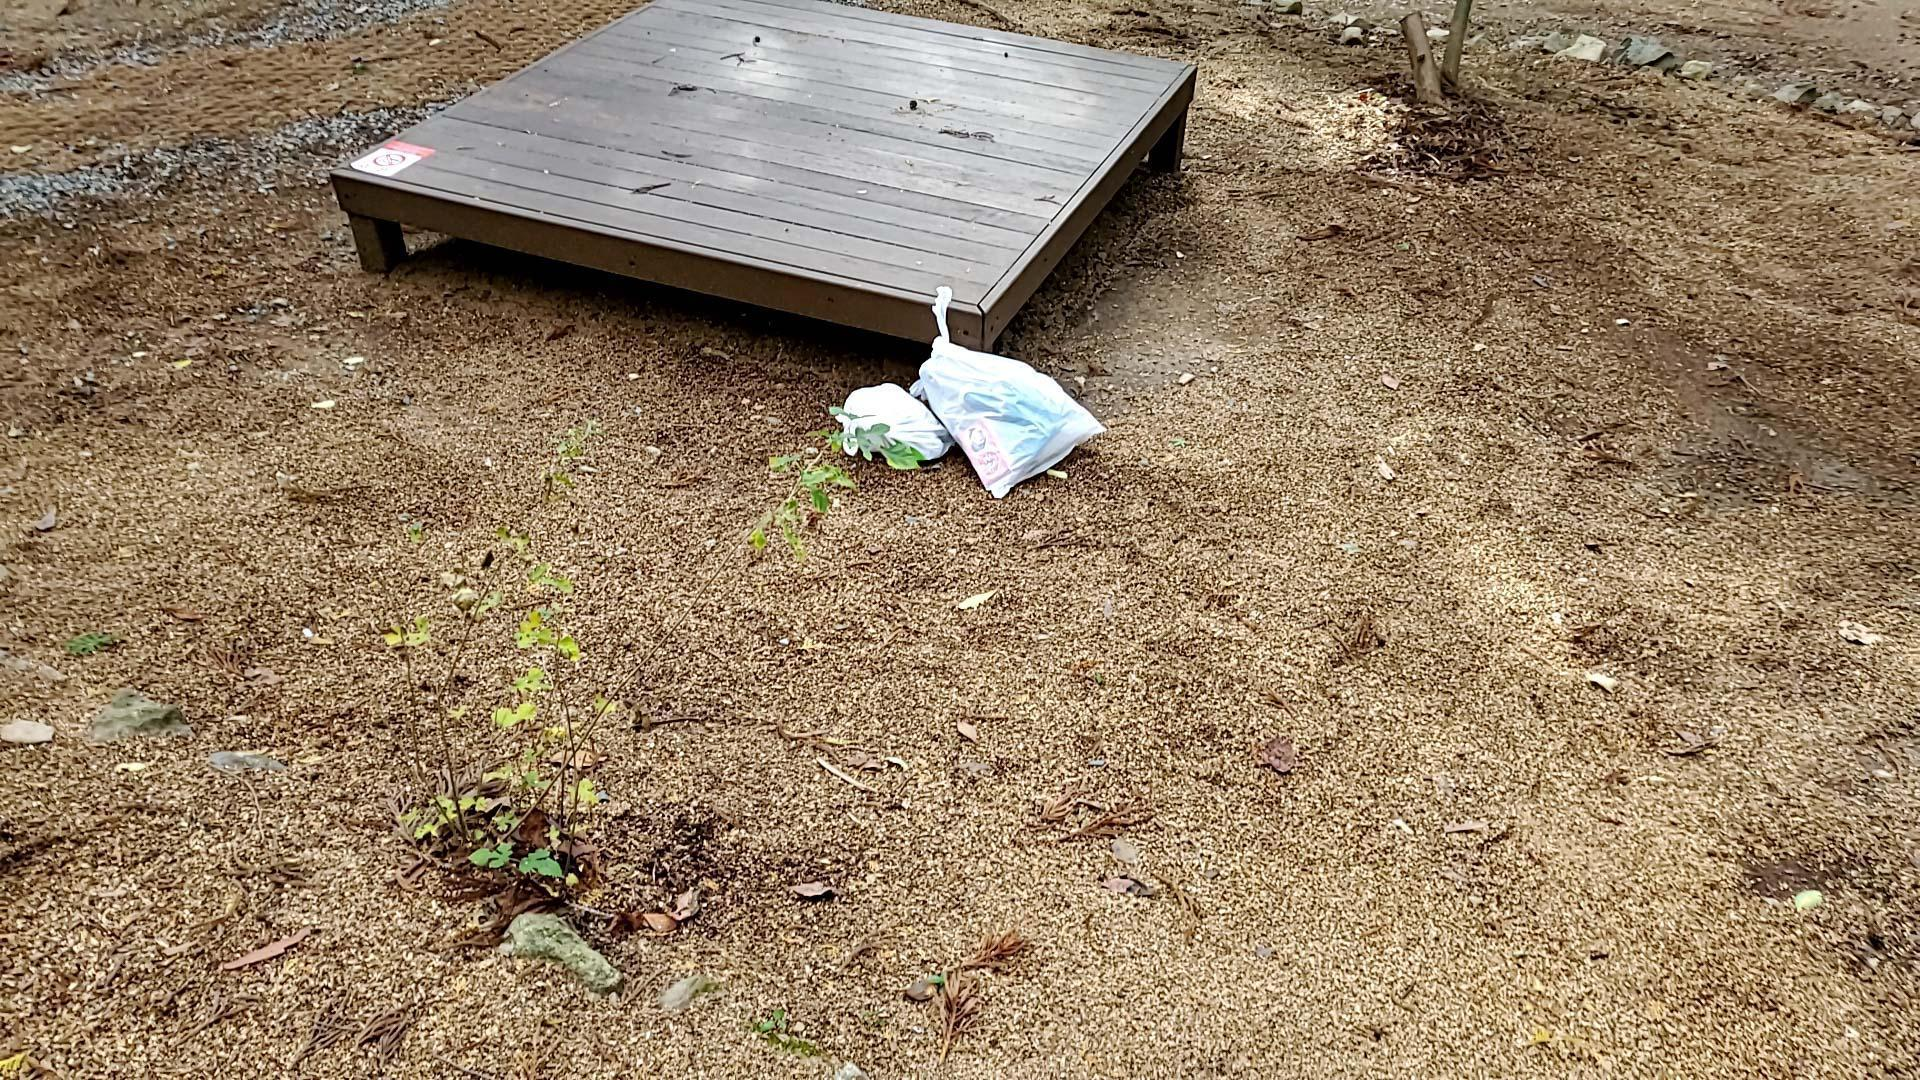white_bag: (905, 280, 1118, 506), (831, 375, 957, 472)
